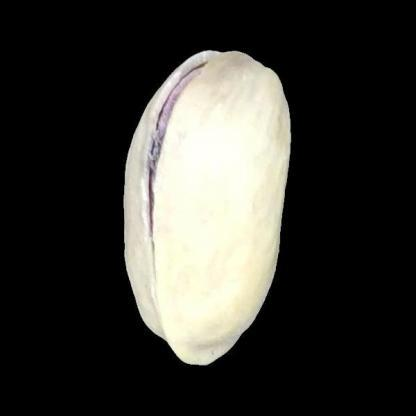pistachio: (120, 47, 297, 373)
